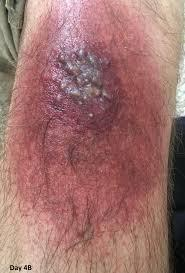Spider: (31, 22, 158, 233)
